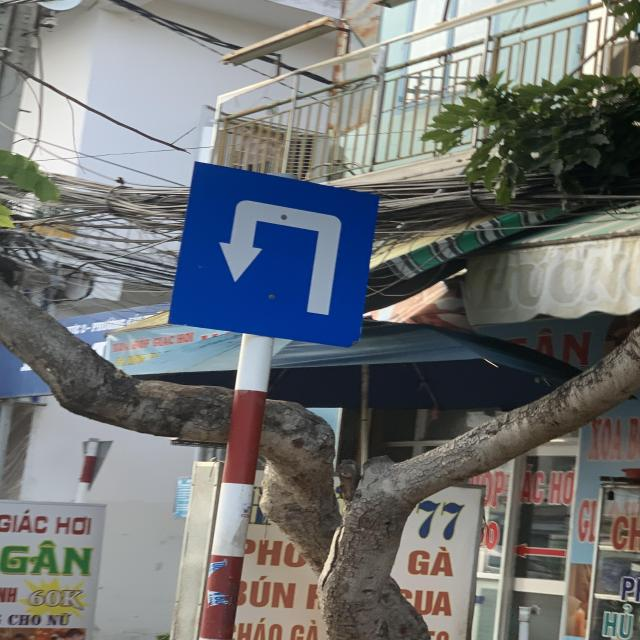Den_Giao_Thong: (168, 161, 375, 347)
